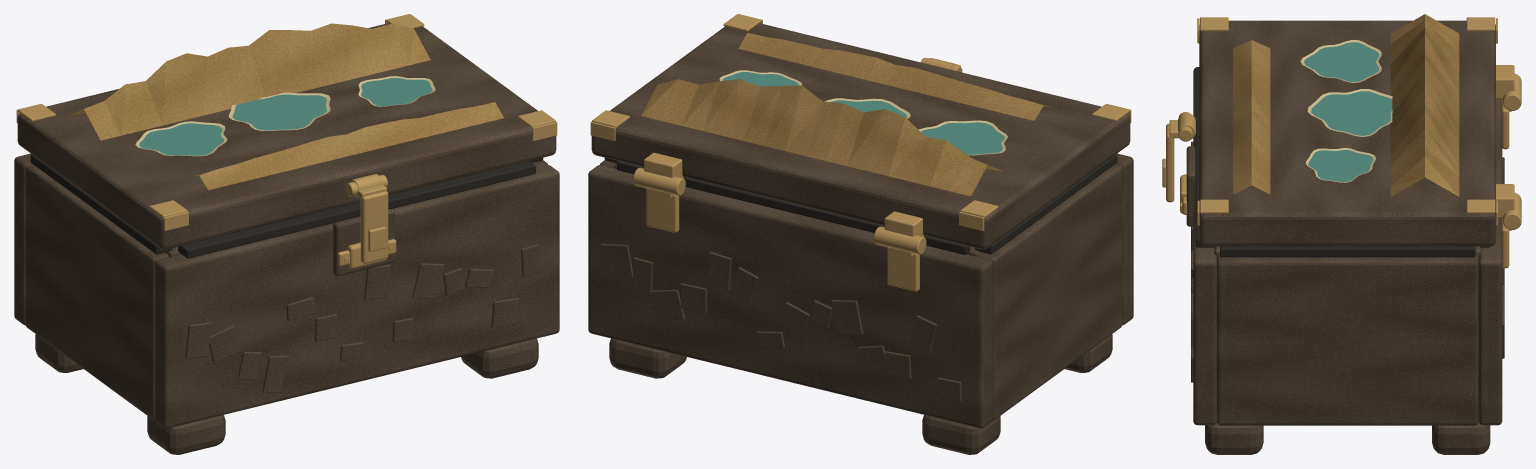
The model's file is kenya.glb.
3 renders of one model, left to right at view 1: azimuth 30°, elevation 25°; view 2: azimuth 150°, elevation 25°; view 3: azimuth 270°, elevation 25°, orthographic.
Visible parts, largest first — view 1: Volcanic / wall, Lid / polished slab, Volcanic / side, Terrain / north escarpment, Terrain / south escarpment, Seam / long, Lake / 2, Volcanic foot, Lake / 1, Volcanic / wall.001, Volcanic foot.002, Latch / lifting hasp (+13 smaller); view 2: Volcanic / wall.001, Lid / polished slab, Volcanic / side, Terrain / north escarpment, Terrain / south escarpment, Seam / long.001, Volcanic foot.001, Volcanic / wall, Volcanic foot.003, Lake / 1, Seam / side, Hinge / fixed mount.001 (+17 smaller); view 3: Volcanic / side.001, Lid / polished slab, Terrain / north escarpment, Terrain / south escarpment, Volcanic / wall.001, Volcanic / wall, Seam / side.001, Lake / 2, Lake / 1, Volcanic foot.002, Volcanic foot.003, Lake / 3 (+13 smaller).
Part boxes in pixels (bbox=[...]): Volcanic / wall: bbox=[155, 165, 559, 428]; Lid / polished slab: bbox=[17, 23, 556, 249]; Volcanic / side: bbox=[25, 164, 168, 420]; Terrain / north escarpment: bbox=[67, 23, 430, 140]; Terrain / south escarpment: bbox=[191, 102, 503, 190]; Seam / long: bbox=[178, 161, 535, 258]; Lake / 2: bbox=[232, 94, 326, 130]; Volcanic foot: bbox=[147, 415, 225, 454]; Lake / 1: bbox=[139, 123, 224, 155]; Volcanic / wall.001: bbox=[14, 153, 32, 325]; Volcanic foot.002: bbox=[461, 338, 538, 378]; Latch / lifting hasp: bbox=[360, 191, 388, 263]; Volcanic / wall.001: bbox=[588, 165, 992, 428]; Lid / polished slab: bbox=[591, 23, 1130, 249]; Volcanic / side: bbox=[979, 164, 1122, 420]; Terrain / north escarpment: bbox=[641, 79, 1003, 196]; Terrain / south escarpment: bbox=[738, 33, 1050, 120]; Seam / long.001: bbox=[616, 161, 969, 254]; Volcanic foot.001: bbox=[922, 415, 1000, 454]; Volcanic / wall: bbox=[1115, 153, 1133, 325]; Volcanic foot.003: bbox=[609, 338, 686, 378]; Lake / 1: bbox=[921, 122, 1004, 154]; Seam / side: bbox=[975, 154, 1117, 254]; Hinge / fixed mount.001: bbox=[646, 188, 679, 232]; Volcanic / side.001: bbox=[1217, 254, 1478, 425]; Lid / polished slab: bbox=[1199, 20, 1495, 246]; Terrain / north escarpment: bbox=[1390, 14, 1459, 196]; Terrain / south escarpment: bbox=[1233, 40, 1270, 194]; Volcanic / wall.001: bbox=[1478, 99, 1502, 425]; Volcanic / wall: bbox=[1193, 68, 1216, 425]; Seam / side.001: bbox=[1220, 246, 1475, 257]; Lake / 2: bbox=[1311, 91, 1392, 135]; Lake / 1: bbox=[1304, 42, 1378, 81]; Volcanic foot.002: bbox=[1205, 422, 1263, 454]; Volcanic foot.003: bbox=[1432, 423, 1490, 454]; Lake / 3: bbox=[1308, 150, 1373, 181].
Bounding box in the file's own units: 3.72 × 2.71 × 2.88.
Materials: 6 (2 with a texture image).
